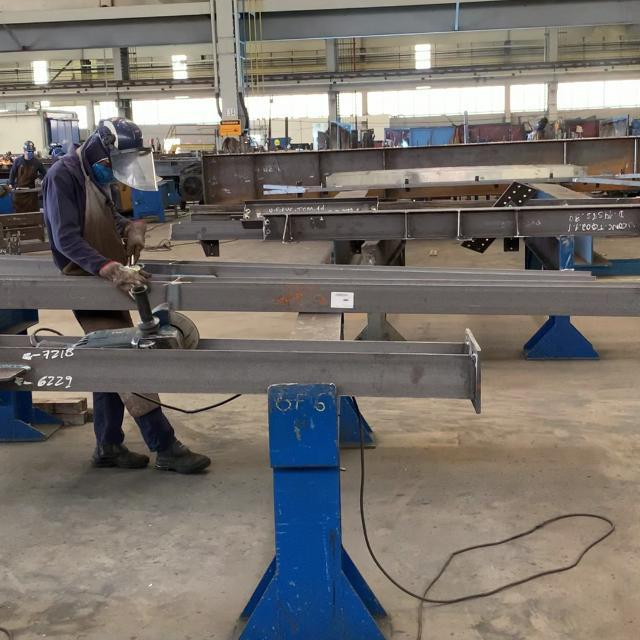eye-glass: (109, 147, 158, 191)
face-shield: (108, 264, 154, 301), (122, 222, 145, 254)
glove: (94, 117, 145, 148)
mask: (42, 115, 160, 301)
safety-shoe: (154, 435, 213, 475), (93, 441, 152, 476)
